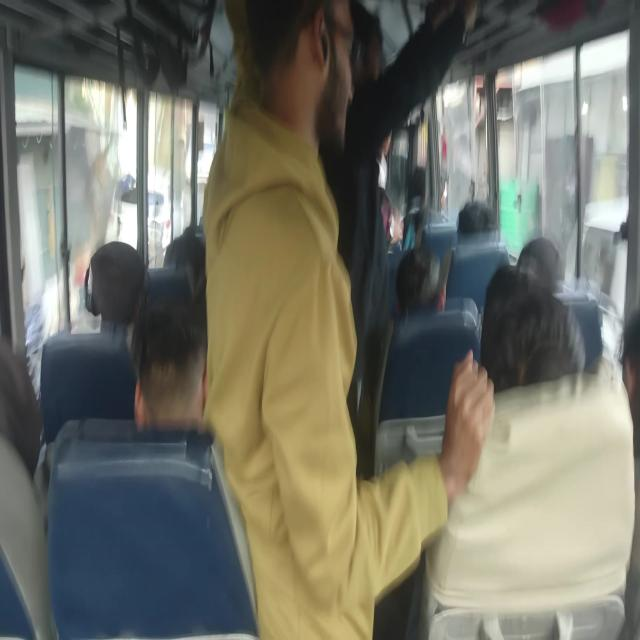person: (255, 0, 378, 146), (135, 302, 253, 440), (482, 294, 609, 409), (0, 340, 51, 592), (309, 0, 401, 112), (390, 252, 464, 338), (518, 204, 582, 299), (457, 196, 531, 276), (423, 141, 472, 216), (82, 244, 120, 332), (168, 216, 206, 276), (621, 284, 640, 392)
